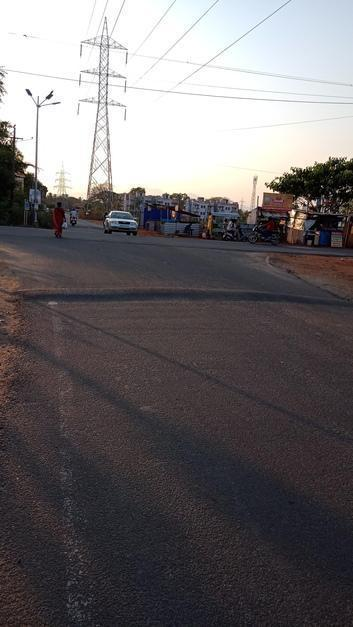speedbreaker: (8, 284, 353, 312)
